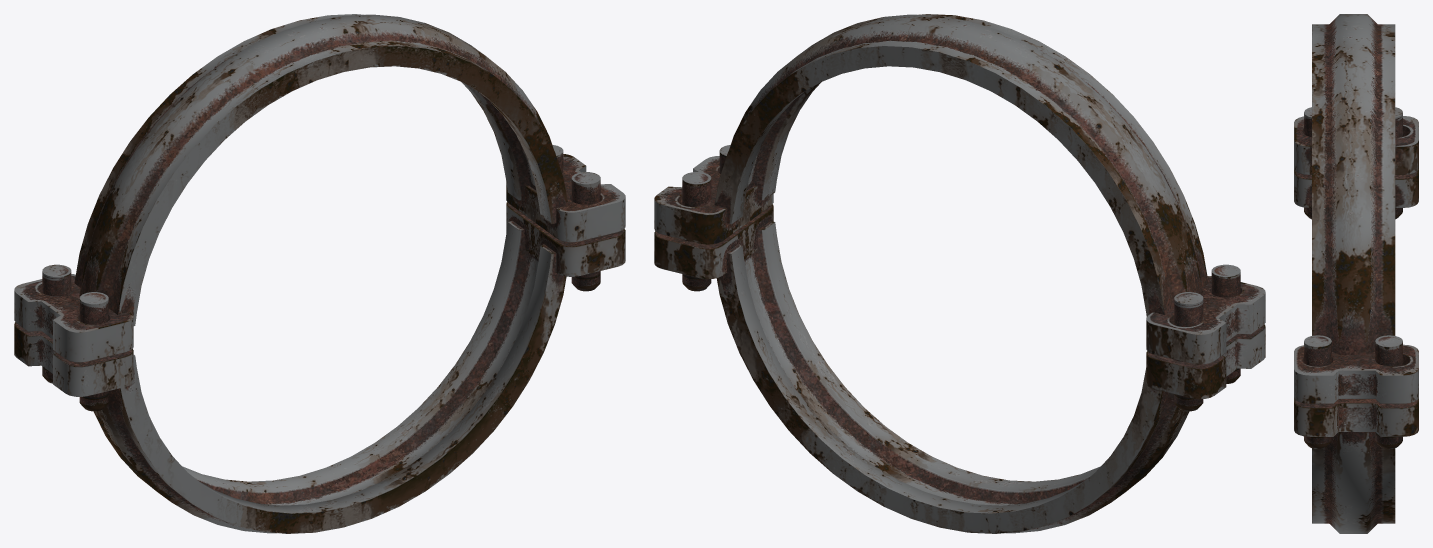
File: freebie_-_game_art_sci_fi_clamp.glb
The picture shows the model from 3 angles, left to right: view 1: azimuth 30°, elevation 25°; view 2: azimuth 150°, elevation 25°; view 3: azimuth 270°, elevation 25°; orthographic projection. The views are drawn at different scales.
Visible parts, largest first — view 1: Clamp_Mesh; view 2: Clamp_Mesh; view 3: Clamp_Mesh.
Part boxes in pixels (left/top/right/bottom): Clamp_Mesh: left=14, top=14, right=625, bottom=533; Clamp_Mesh: left=654, top=14, right=1265, bottom=533; Clamp_Mesh: left=1294, top=14, right=1418, bottom=533.
Size of the model in its own units: 29.5 by 25 by 6.
1 material, 1 textured.
